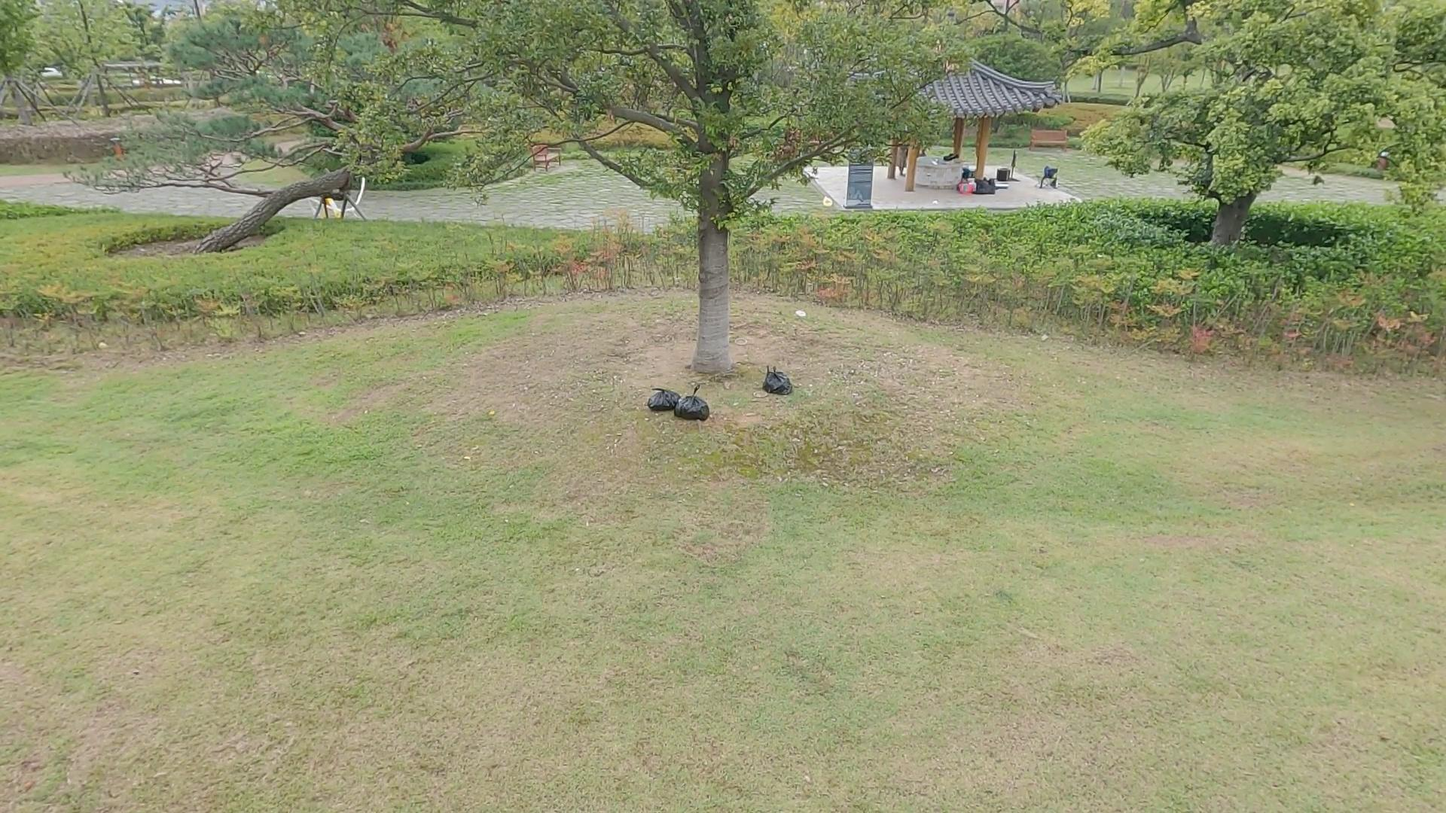trash: (671, 377, 711, 427), (757, 363, 794, 400), (647, 383, 683, 418)
